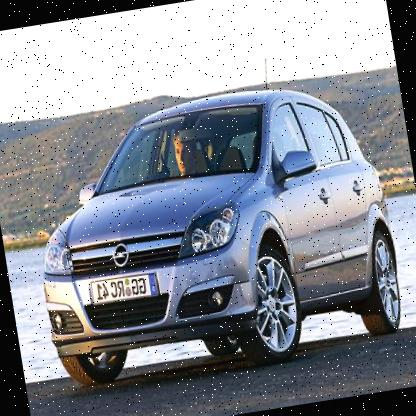car: (12, 61, 416, 397)
